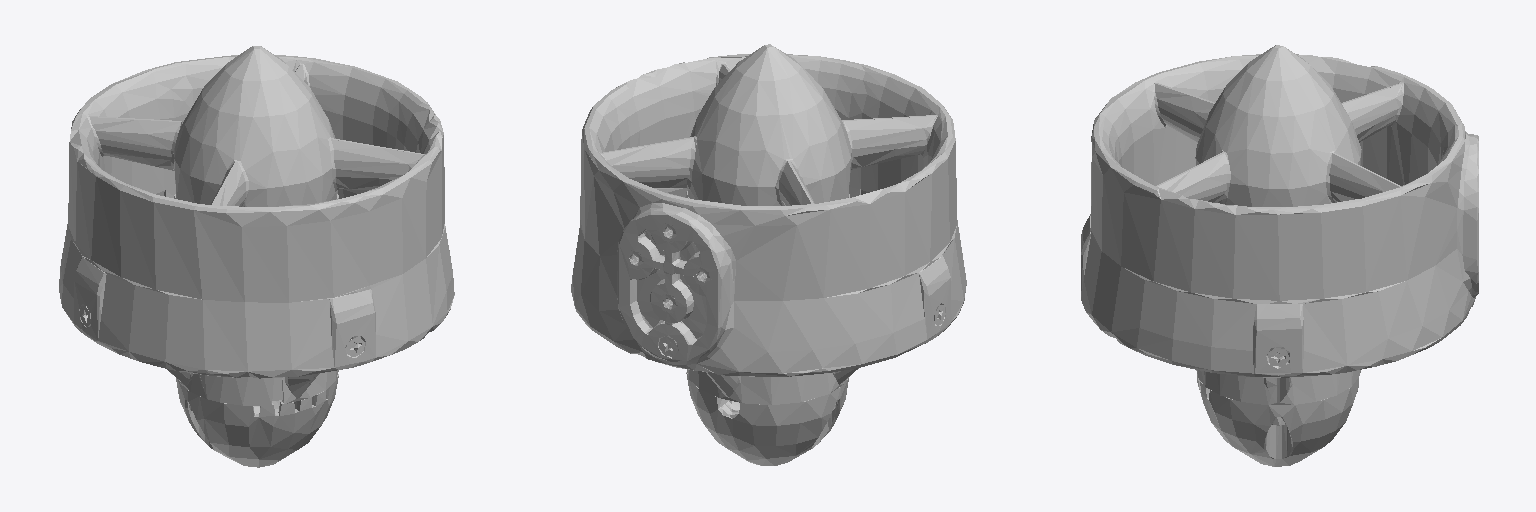
Rendered from thruster_sf.obj.
3 views of the same model, side by side, from view 1: azimuth 30°, elevation 25°; view 2: azimuth 150°, elevation 25°; view 3: azimuth 270°, elevation 25° (orthographic).
Bounding box in the file's own units: 0.0966 × 0.1127 × 0.0973.